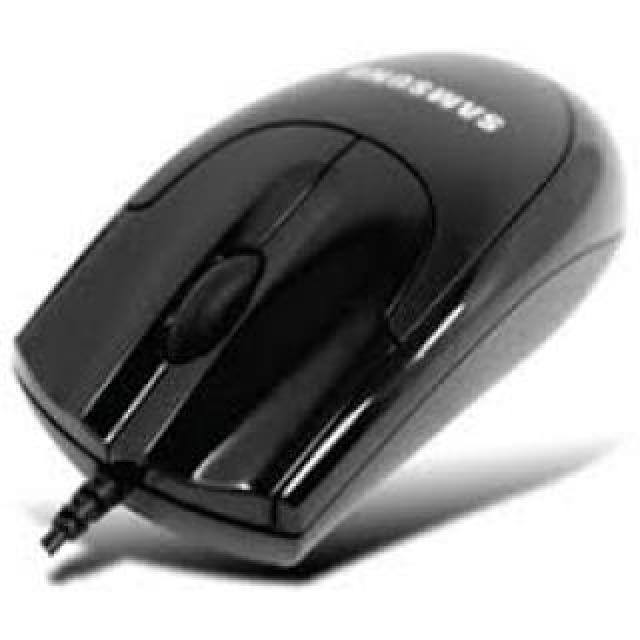mouse: (14, 30, 615, 594)
